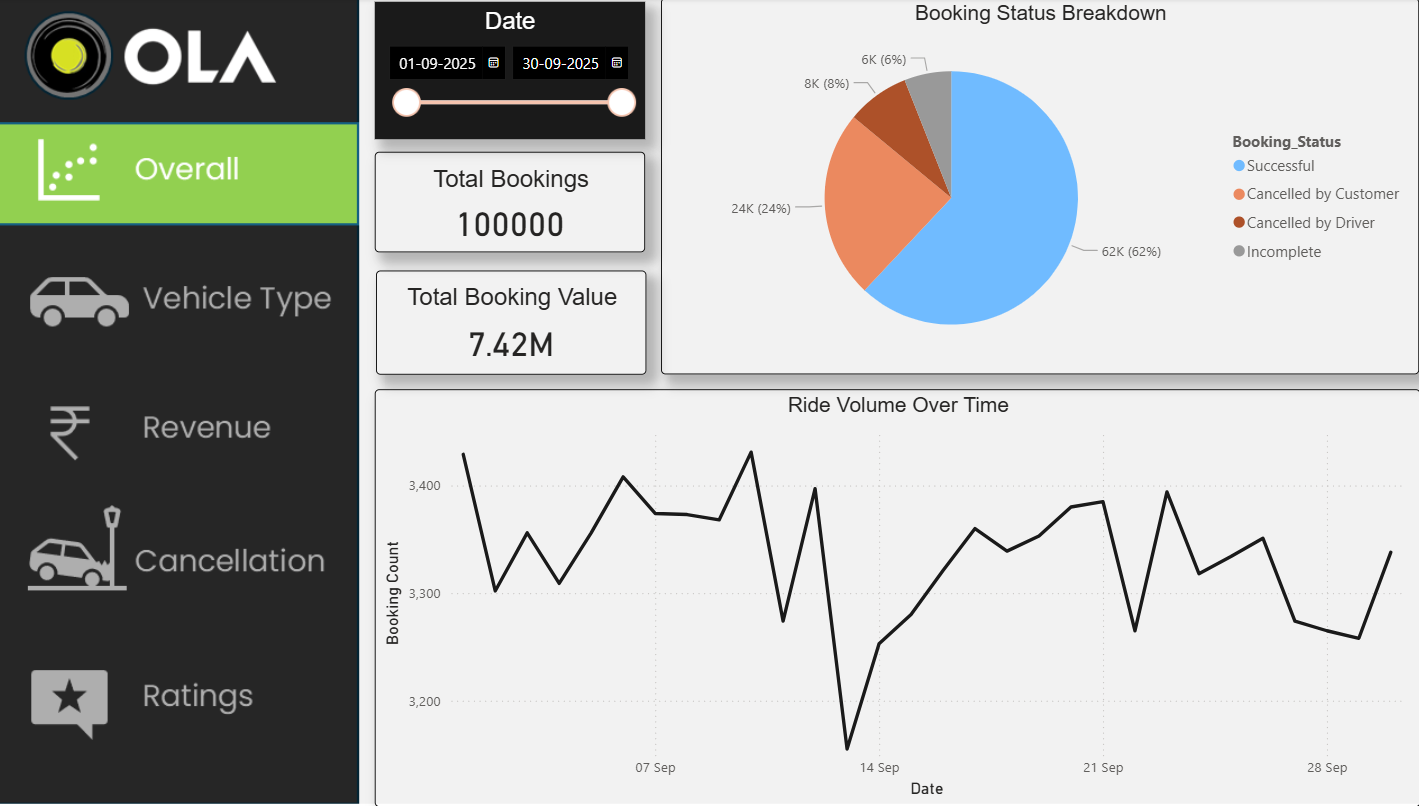

Layout of this report page (visuals, bound fields, positions):
{"tool":"powerbi","page":{"name":"Overall","canvas":[1280,720],"ordinal":0},"visuals":[{"type":"actionButton","box":[0,213,323,93.6],"z":0},{"type":"actionButton","box":[0,105.3,323,93.6],"z":1000},{"type":"actionButton","box":[0,451.8,323,93.6],"z":2000},{"type":"actionButton","box":[0,334.7,323,93.6],"z":3000},{"type":"actionButton","box":[0,571.2,323,93.6],"z":4000},{"type":"lineChart","title":"Ride Volume Over Time","fields":{"Y":["CountNonNull(Bookings.Booking ID)"],"Category":["Bookings.Date"]},"box":[336.8,348.5,930.9,372.1],"z":5000},{"type":"pieChart","title":"Booking Status Breakdown","fields":{"Category":["Bookings.Booking_Status"],"Y":["CountNonNull(Bookings.Booking_Status)"]},"box":[592.6,0,675,335.3],"z":6000},{"type":"slicer","title":"Date","fields":{"Values":["Bookings.Date"]},"box":[336.8,2.9,241.2,122.1],"z":7000},{"type":"card","title":"Total Bookings","fields":{"Values":["Count(Bookings.Booking ID)"]},"box":[336.8,136.8,241.2,89.7],"z":8000},{"type":"card","title":"Total Booking Value","fields":{"Values":["Sum(Bookings.Booking Value)"]},"box":[338.2,242.6,241.2,92.6],"z":9000}]}

Visuals, with their boxes in screenshot pixels (x1, y1, x2, y2), scaled from the page's 1280x720 canvas onto the 1419x806 screenshot:
actionButton: <box>0,238,358,343</box>
actionButton: <box>0,118,358,223</box>
actionButton: <box>0,506,358,611</box>
actionButton: <box>0,375,358,479</box>
actionButton: <box>0,639,358,744</box>
"Ride Volume Over Time" lineChart: <box>373,390,1405,805</box>
"Booking Status Breakdown" pieChart: <box>657,0,1405,375</box>
"Date" slicer: <box>373,3,641,140</box>
"Total Bookings" card: <box>373,153,641,254</box>
"Total Booking Value" card: <box>375,272,642,375</box>
